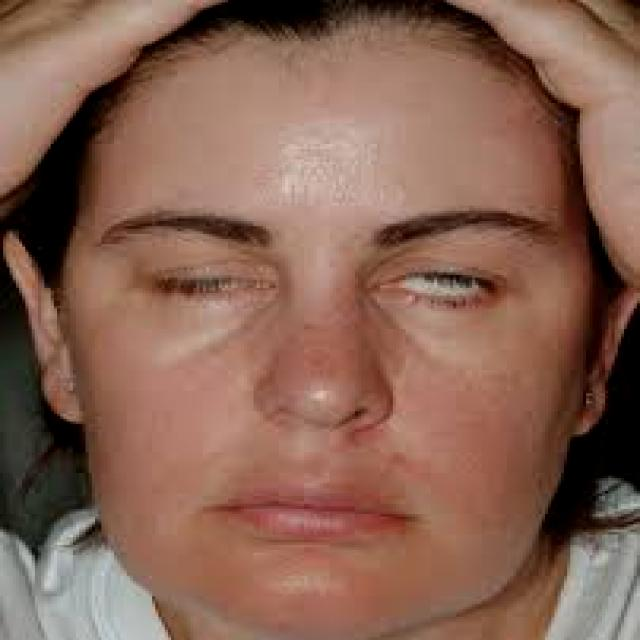stroke_face: (31, 41, 608, 622)
